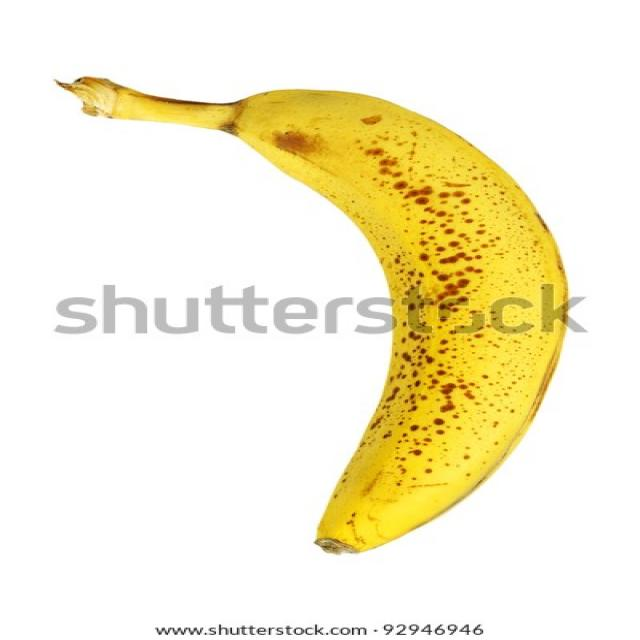Banana: (65, 69, 557, 556)
